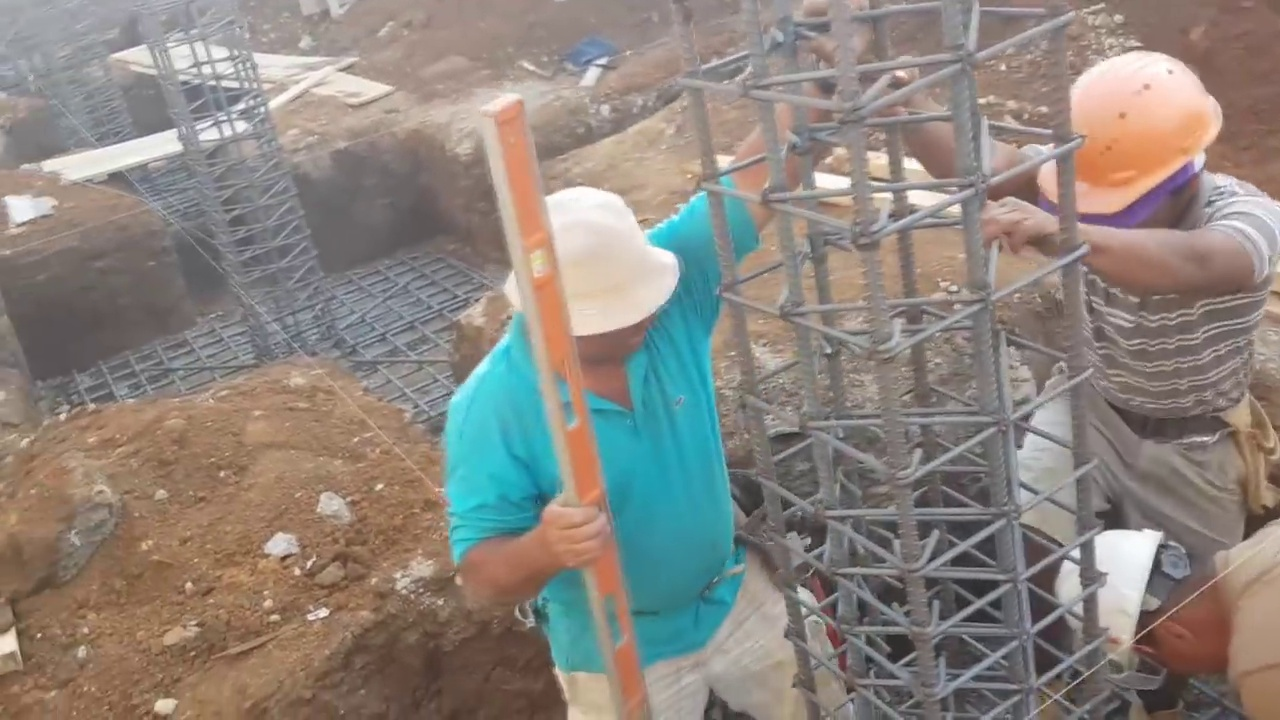helmet: (1040, 48, 1220, 204), (1056, 522, 1162, 687)
helmet-off: (529, 184, 669, 374)
helmet-on: (1041, 41, 1226, 236), (1054, 522, 1247, 689)
person: (414, 1, 852, 714), (855, 0, 1280, 545), (1048, 522, 1280, 717)
